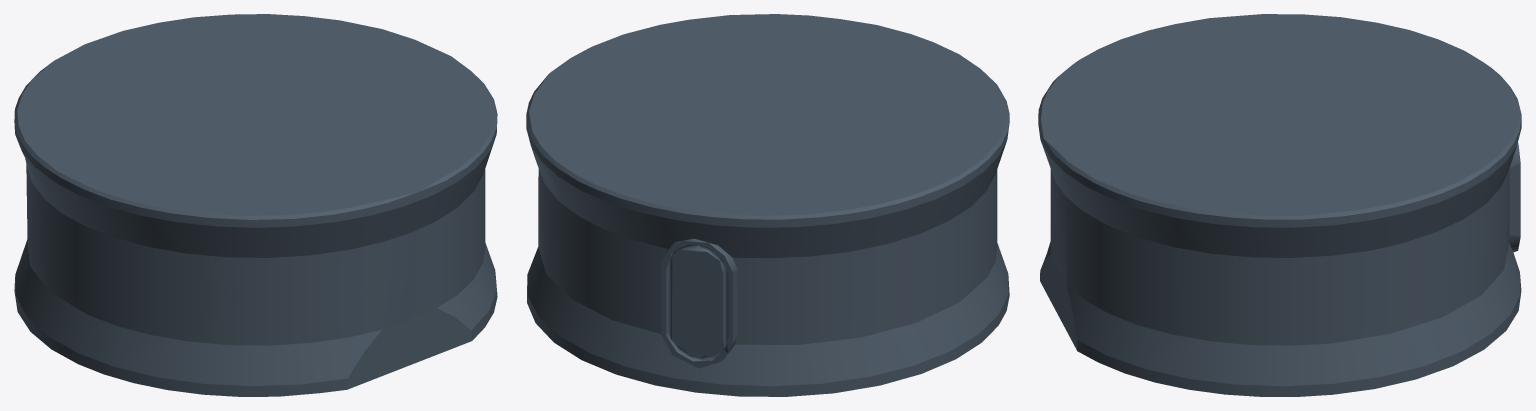
Rendered from fl_knee_2.obj.
3 views of the same model, side by side, from view 1: azimuth 30°, elevation 25°; view 2: azimuth 150°, elevation 25°; view 3: azimuth 270°, elevation 25° (orthographic).
Bounding box in the file's own units: 0.0805 × 0.0331 × 0.0805.
